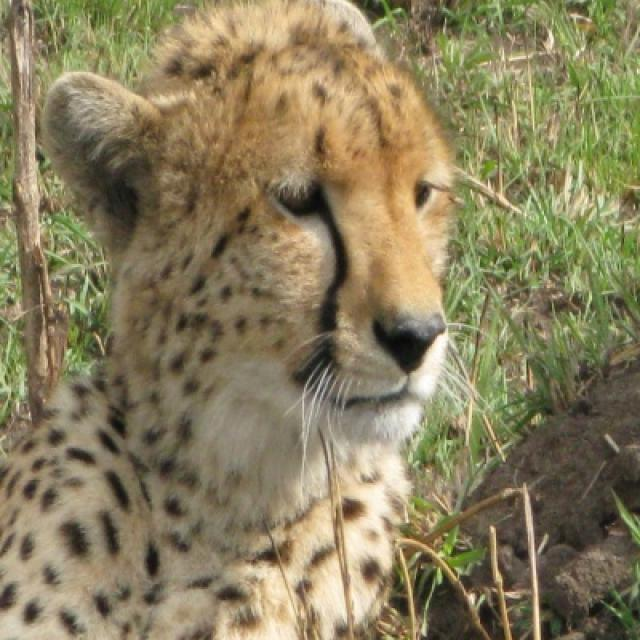Cheetah: (0, 0, 458, 638)
